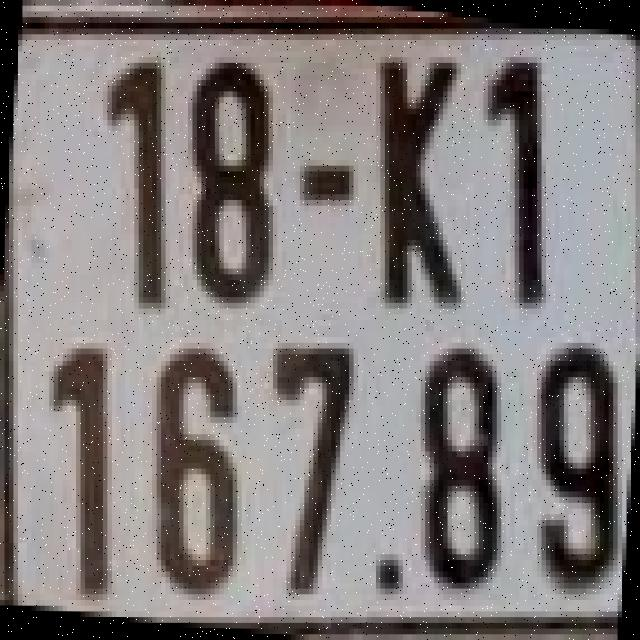1: (481, 54, 557, 306), (47, 340, 119, 591), (103, 54, 174, 306)
6: (150, 343, 239, 594)
7: (268, 337, 354, 594)
8: (188, 54, 277, 306), (418, 340, 504, 591)
9: (535, 343, 620, 588)
K: (378, 52, 463, 308)
